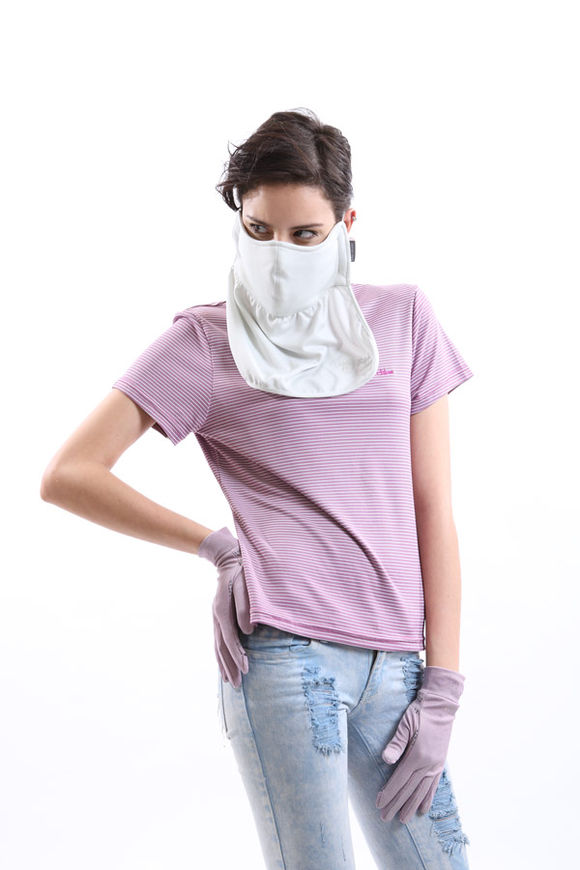face_mask: (238, 179, 336, 329)
